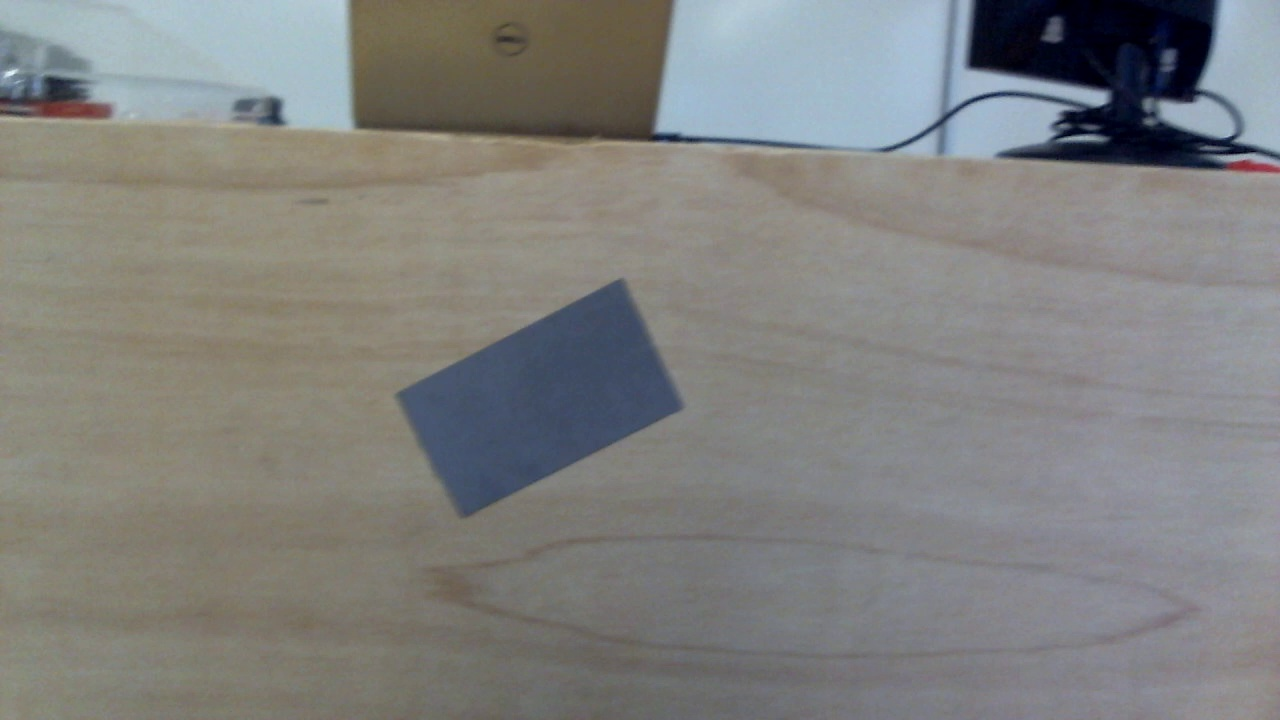Tape: (398, 280, 688, 516)
